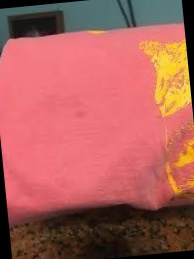oil: (67, 98, 91, 121)
